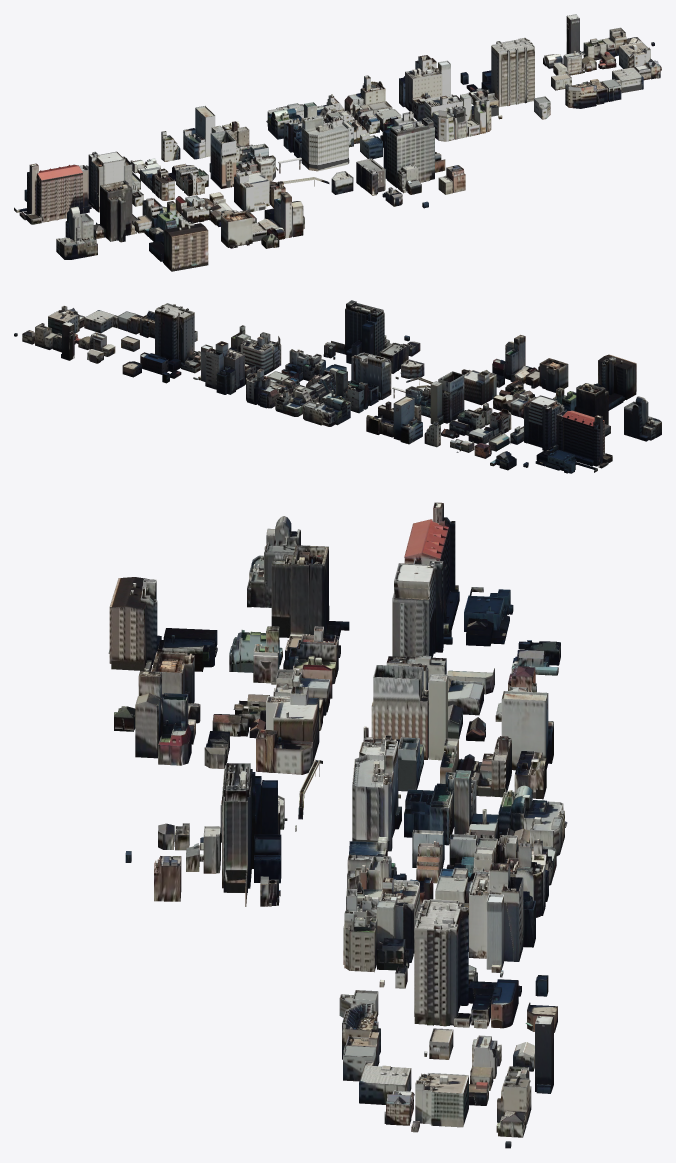
The model's file is lod3-station-8-1-packed.glb.
The picture shows the model from 3 angles, top to bottom: view 1: azimuth 30°, elevation 25°; view 2: azimuth 150°, elevation 25°; view 3: azimuth 270°, elevation 25°; orthographic projection. The views are drawn at different scales.
Size of the model in its own units: 541 by 44.89 by 184.
Materials: 27 (26 with a texture image).
